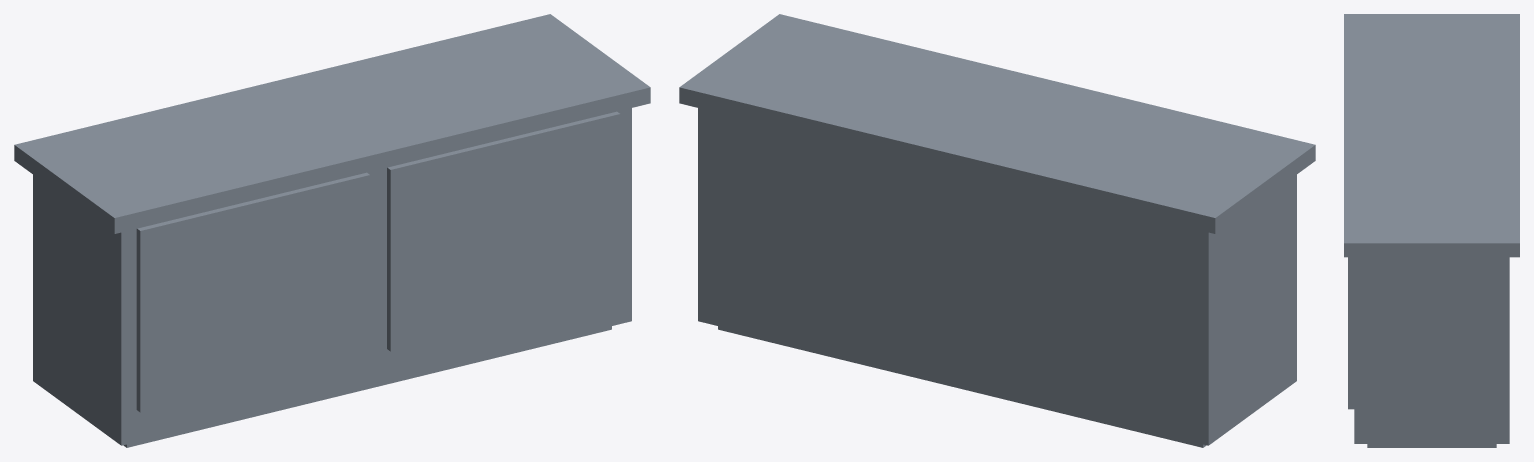
Rendered from counter.glb.
The picture shows the model from 3 angles, left to right: view 1: azimuth 30°, elevation 25°; view 2: azimuth 150°, elevation 25°; view 3: azimuth 270°, elevation 25°; orthographic projection. The views are drawn at different scales.
Visible parts, largest first — view 1: counter; view 2: counter; view 3: counter.
Part boxes in pixels (box(x1,y1,x2,y2)): counter: box(14, 14, 650, 447); counter: box(679, 14, 1315, 447); counter: box(1344, 14, 1519, 447).
Bounding box in the file's own units: 2.1 × 0.92 × 0.68.
